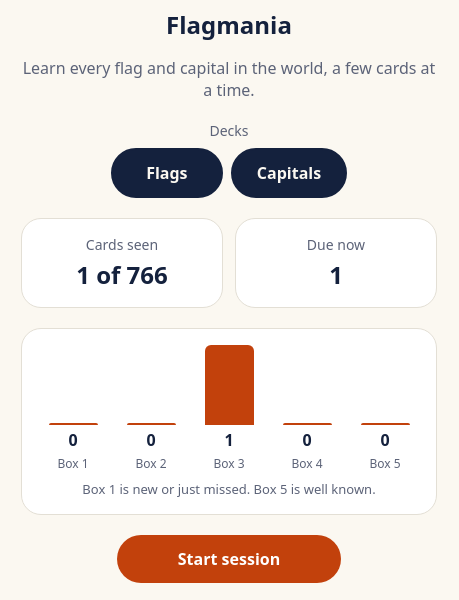
formats › accepts any capital of a country with several
The width and height of the screenshot is (459, 600).
Click the button "Start session".
click(229, 559)  # box left=117, top=535, right=341, bottom=583
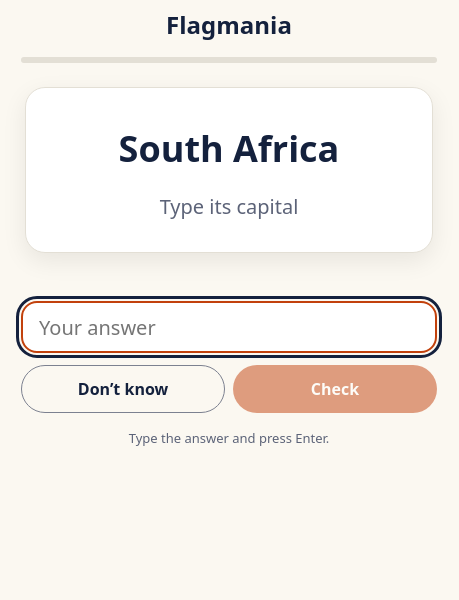
Type "cape town" into the field named "Capital".
click(229, 327); type("cape town")  # box left=21, top=301, right=437, bottom=353
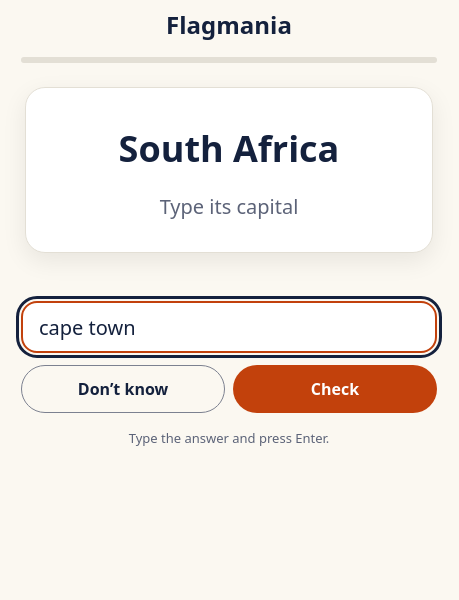
Click the button "Check".
click(335, 389)  # box left=233, top=365, right=437, bottom=413
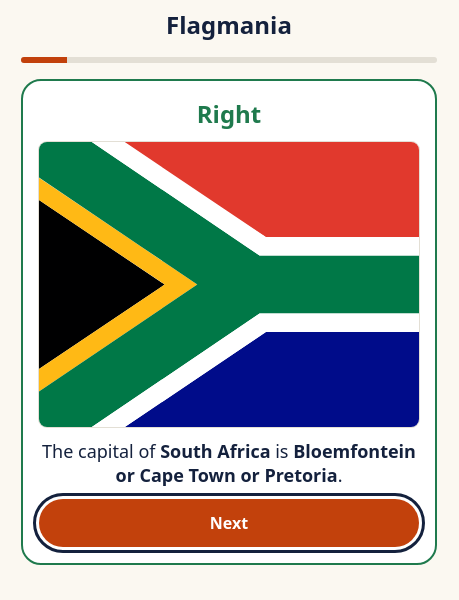
Check: the heading "Right" is shown, box left=197, top=97, right=261, bottom=130
Check: the text "Bloemfontein or Cape Town or Pretoria" is shown, box left=116, top=439, right=416, bottom=487
